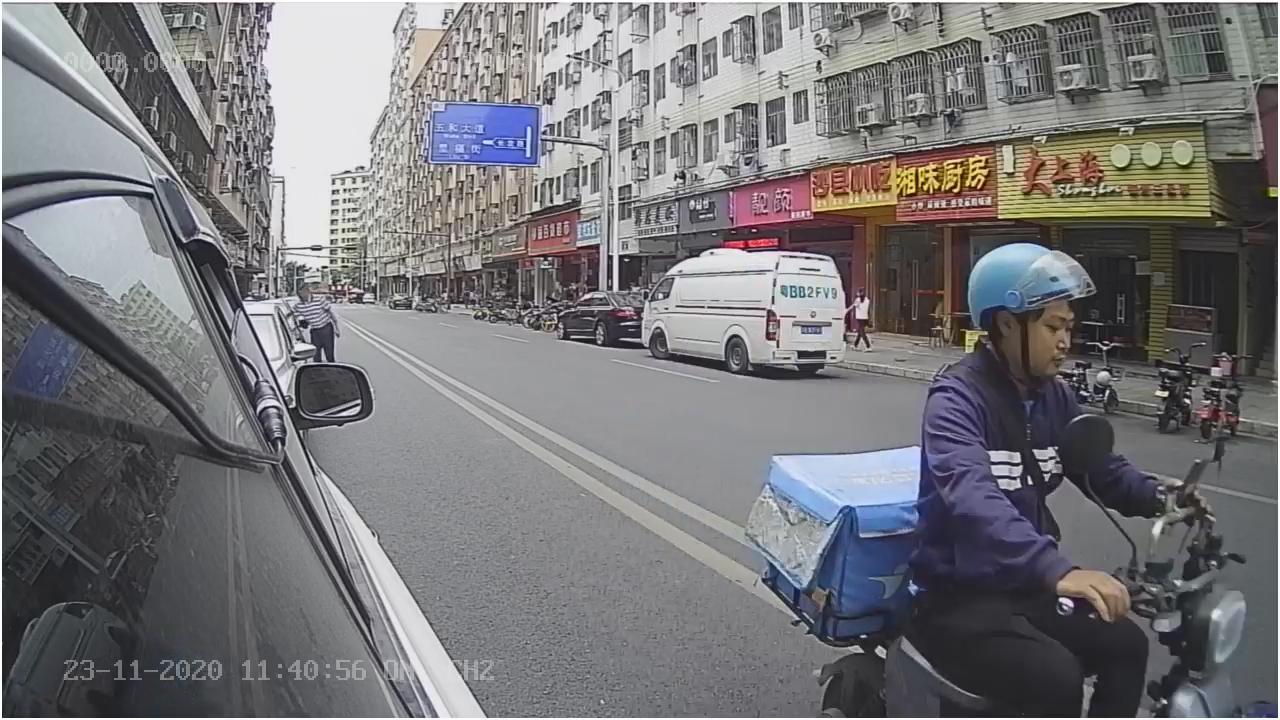person: (913, 233, 1129, 604)
